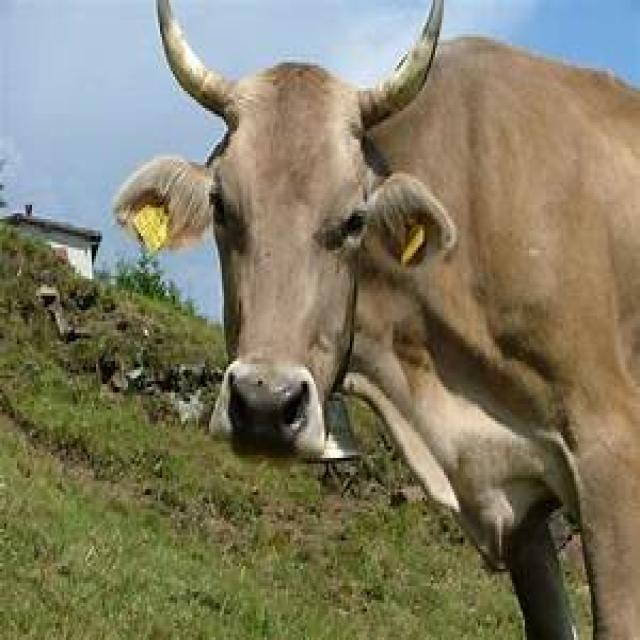animal: (114, 0, 640, 640)
